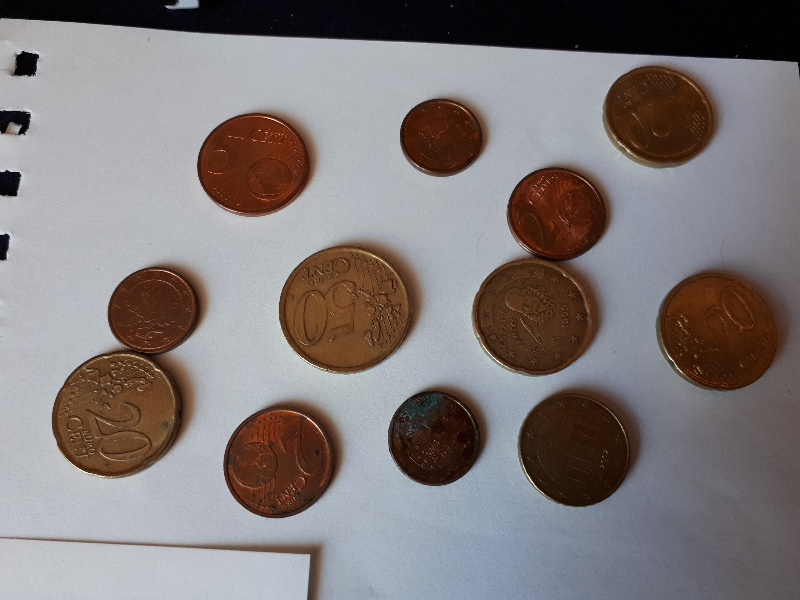1 cent: (387, 391, 484, 491), (104, 265, 202, 355), (397, 98, 486, 178)
10 cent: (514, 391, 633, 511)
2 cent: (220, 405, 340, 521), (504, 164, 611, 262)
20 cent: (49, 352, 184, 483), (654, 270, 783, 394), (473, 258, 596, 378), (601, 64, 716, 170)
5 cent: (192, 112, 314, 220)
50 cent: (277, 244, 414, 377)
